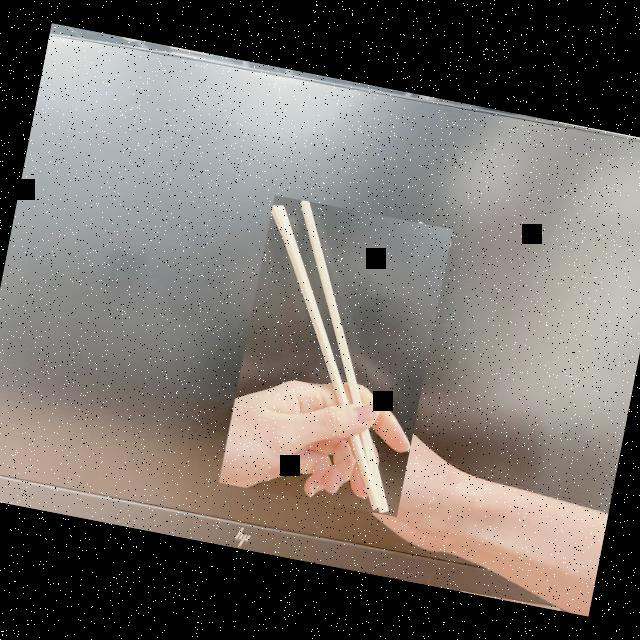stick: (219, 195, 452, 516)
